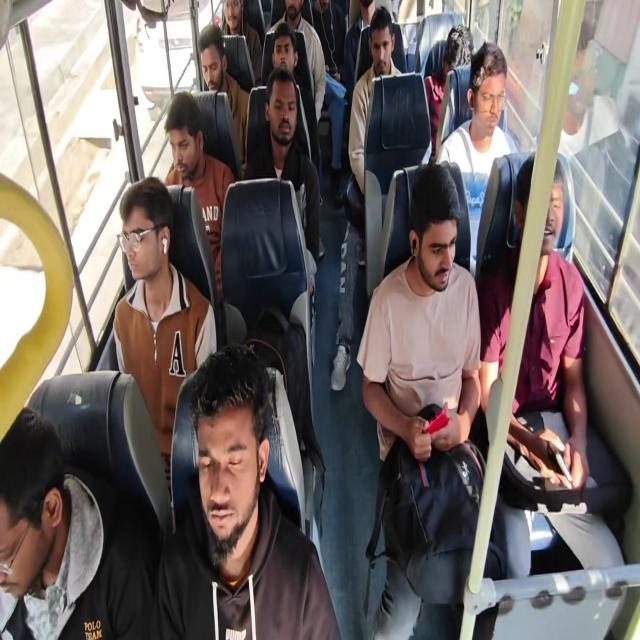person: (478, 151, 630, 578), (356, 162, 486, 638), (151, 342, 342, 638), (0, 406, 158, 639), (112, 176, 218, 496), (330, 7, 404, 391), (243, 66, 322, 368), (564, 1, 639, 303), (435, 41, 514, 275), (163, 91, 236, 307), (348, 6, 403, 195), (310, 1, 347, 207), (198, 24, 250, 164), (268, 0, 326, 123), (423, 24, 474, 157), (558, 20, 598, 160), (219, 0, 262, 86), (343, 0, 376, 86), (311, 0, 345, 81)
